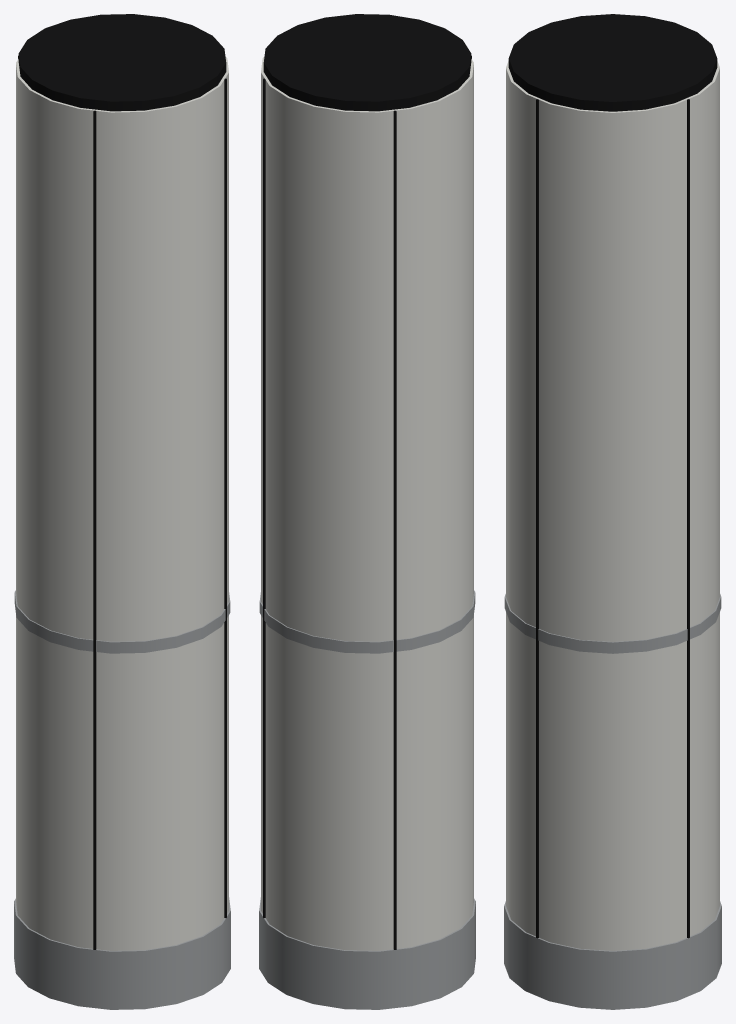
File: gteki_column_round_d600.glb
The picture shows the model from 3 angles, left to right: view 1: azimuth 30°, elevation 25°; view 2: azimuth 150°, elevation 25°; view 3: azimuth 270°, elevation 25°; orthographic projection.
Visible parts, largest first — view 1: VIS_body; view 2: VIS_body; view 3: VIS_body.
Part boxes in pixels (box(x1,y1,x2,y2)): VIS_body: box(14, 14, 230, 1009); VIS_body: box(259, 14, 475, 1009); VIS_body: box(504, 14, 721, 1009).
Size of what is drawn, in the model's own units: 0.61 by 2.8 by 0.61.
1 material, 1 textured.
